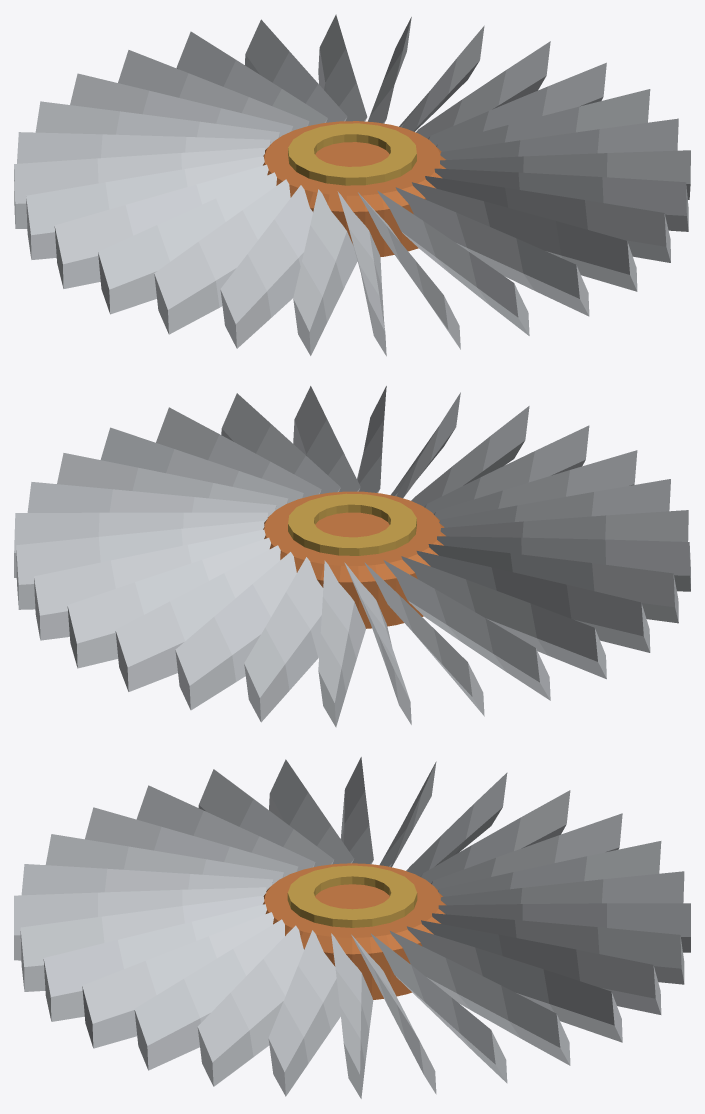
Rendered from fanrotor_quality.glb.
3 views of the same model, one above another, from view 1: azimuth 30°, elevation 25°; view 2: azimuth 150°, elevation 25°; view 3: azimuth 270°, elevation 25° (orthographic).
Visible parts, largest first — view 1: fanrotor_quality; view 2: fanrotor_quality; view 3: fanrotor_quality.
Part boxes in pixels (<box>): fanrotor_quality: <box>14,14,690,356</box>; fanrotor_quality: <box>14,386,690,727</box>; fanrotor_quality: <box>14,757,690,1098</box>.
Bounding box in the file's own units: 0.628 × 0.088 × 0.628.
